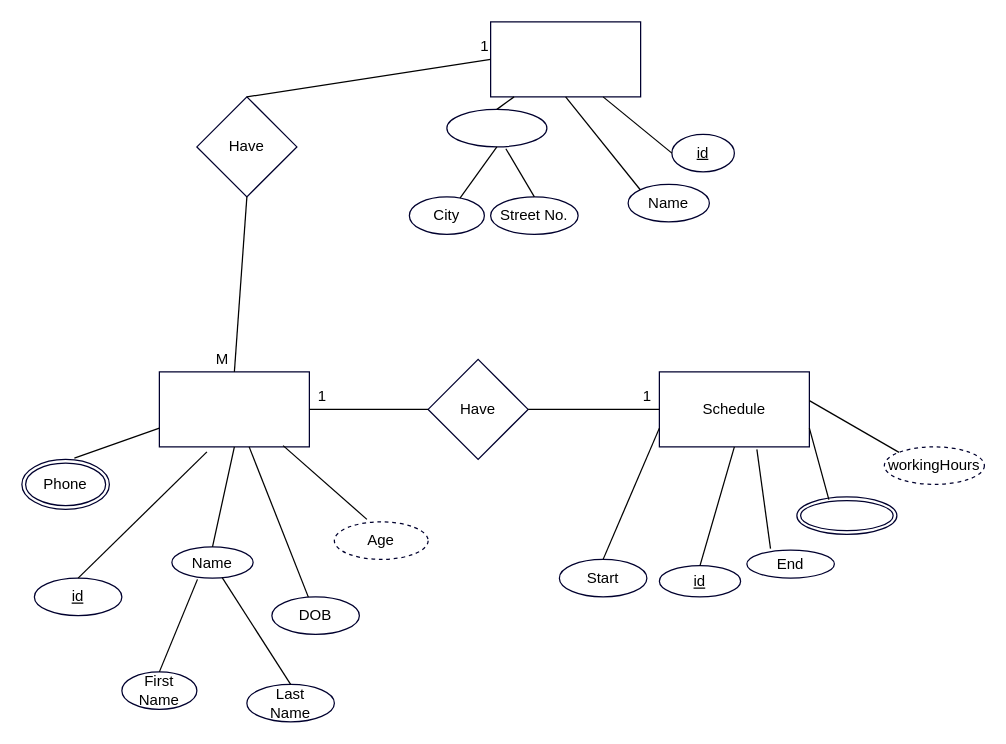
This 1006x744 diagram has some shape labels left out. Here are the shapes that lost their labels. From the top down, the centre of each, then its label:
At (x=565, y=59): "Clinic".
At (x=496, y=127): "Address".
At (x=233, y=409): "Doctor".
At (x=846, y=515): "DaysOff".
